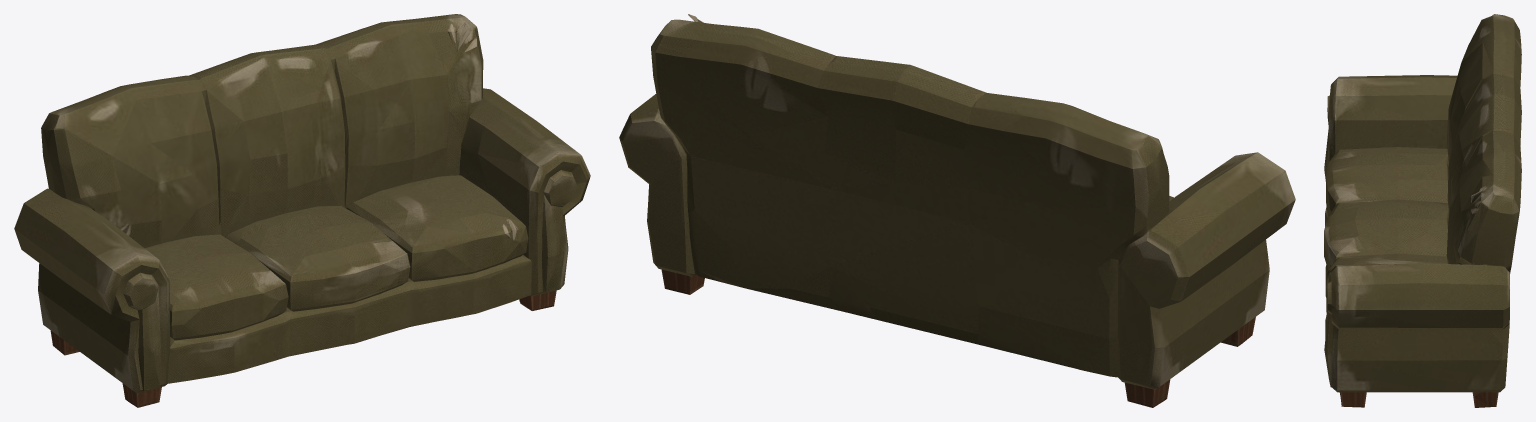
File: couch.glb
The picture shows the model from 3 angles, left to right: view 1: azimuth 30°, elevation 25°; view 2: azimuth 150°, elevation 25°; view 3: azimuth 270°, elevation 25°; orthographic projection. The views are drawn at different scales.
Bounding box in the file's own units: 1.9 × 0.9039 × 0.7333.
Materials: 1 (1 with a texture image).
